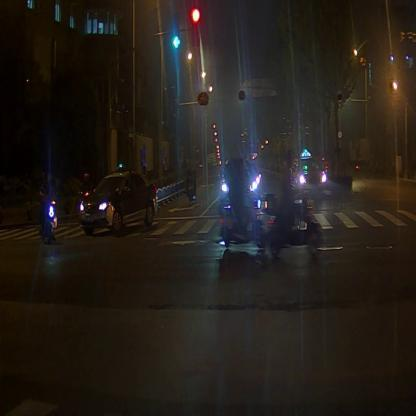Red Light: (190, 6, 200, 49)
